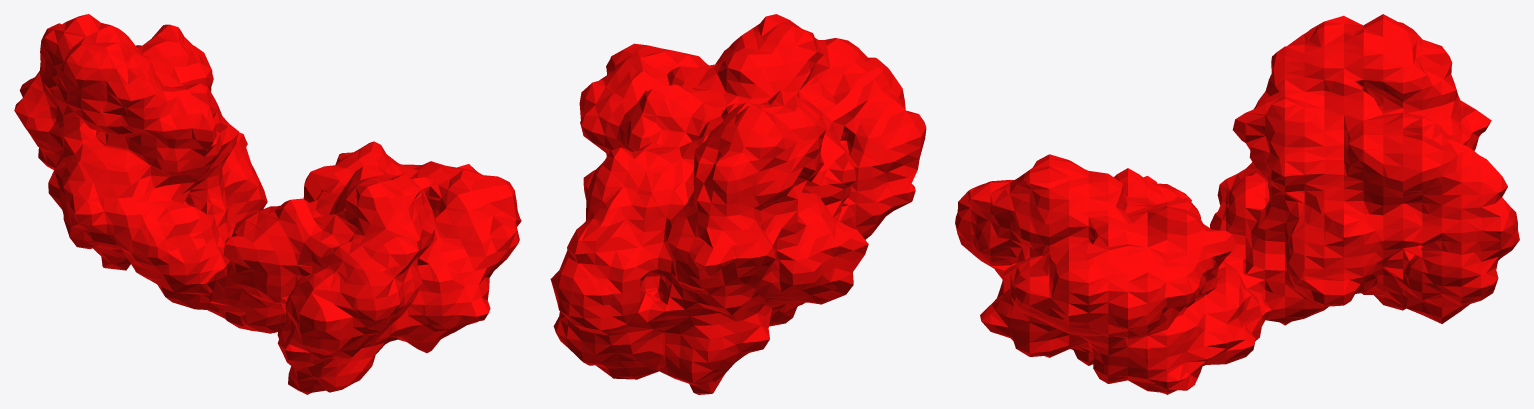
The model's file is pepA_coarse.dae.
3 views of the same model, side by side, from view 1: azimuth 30°, elevation 25°; view 2: azimuth 150°, elevation 25°; view 3: azimuth 270°, elevation 25° (orthographic). The views are drawn at different scales.
Visible parts, largest first — view 1: pepA; view 2: pepA; view 3: pepA.
Boxes of the visible parts, box(x1,y1,x2,y2) form: pepA: box(14, 14, 521, 394); pepA: box(550, 14, 926, 394); pepA: box(955, 14, 1519, 394).
Bounding box in the file's own units: 174 × 138 × 244.
